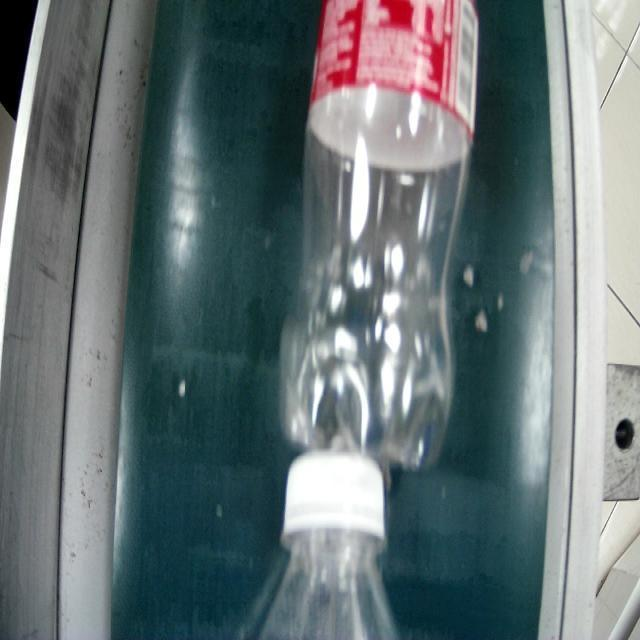BotolPlastik: (289, 0, 467, 466), (206, 472, 437, 640)
